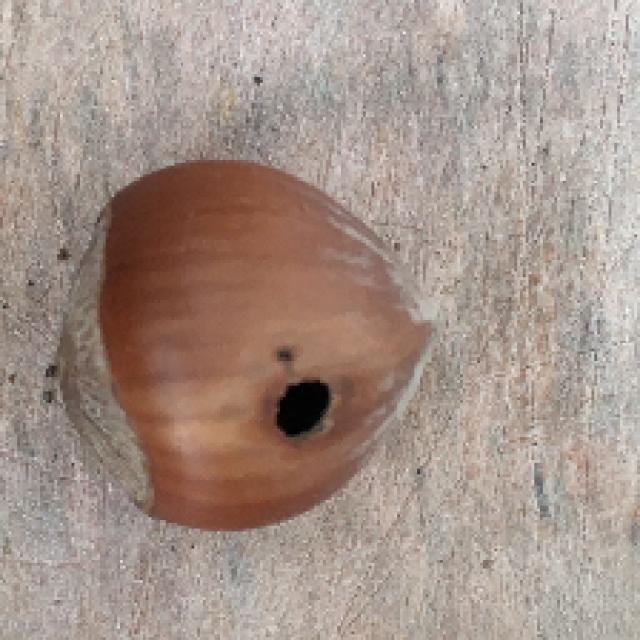damagedHazelnut: (48, 158, 454, 532)
